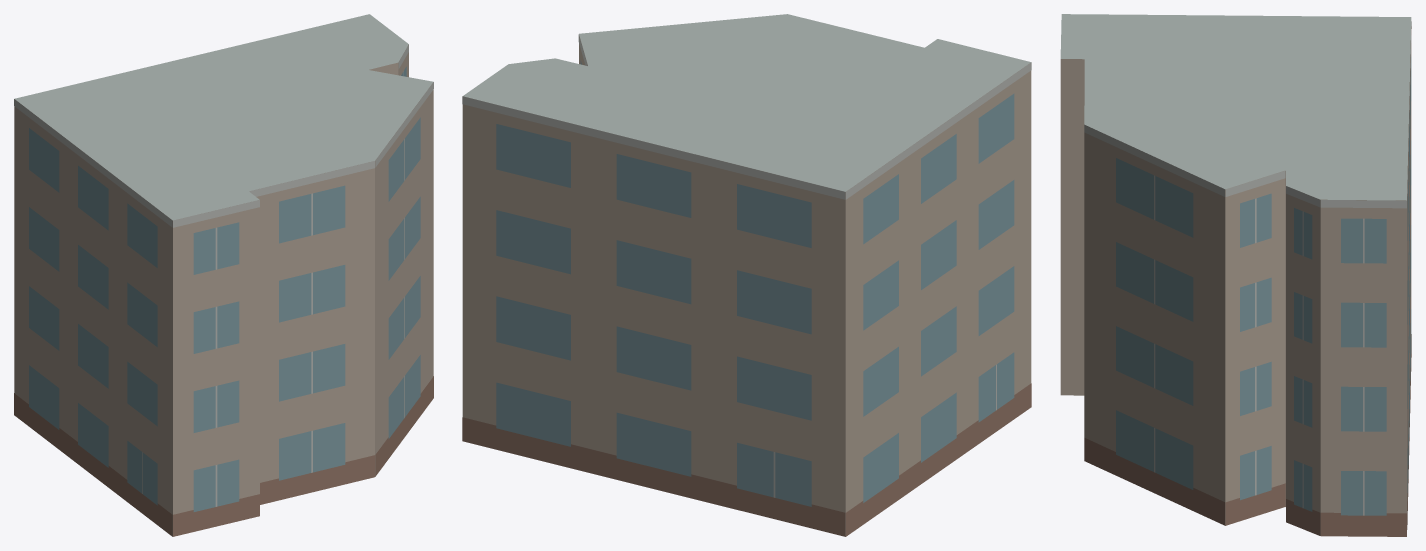
Rendered from survey-upis-32665788.glb.
3 renders of one model, left to right at view 1: azimuth 30°, elevation 25°; view 2: azimuth 150°, elevation 25°; view 3: azimuth 270°, elevation 25°, orthographic. The views are drawn at different scales.
Visible parts, largest first — view 1: survey-upis-32665788.tmp; view 2: survey-upis-32665788.tmp; view 3: survey-upis-32665788.tmp.
Part boxes in pixels (x1=…): survey-upis-32665788.tmp: x1=14, y1=14, x2=433, y2=536; survey-upis-32665788.tmp: x1=462, y1=14, x2=1031, y2=536; survey-upis-32665788.tmp: x1=1060, y1=14, x2=1411, y2=536.
Bounding box in the file's own units: 12.48 × 10.49 × 9.93.
